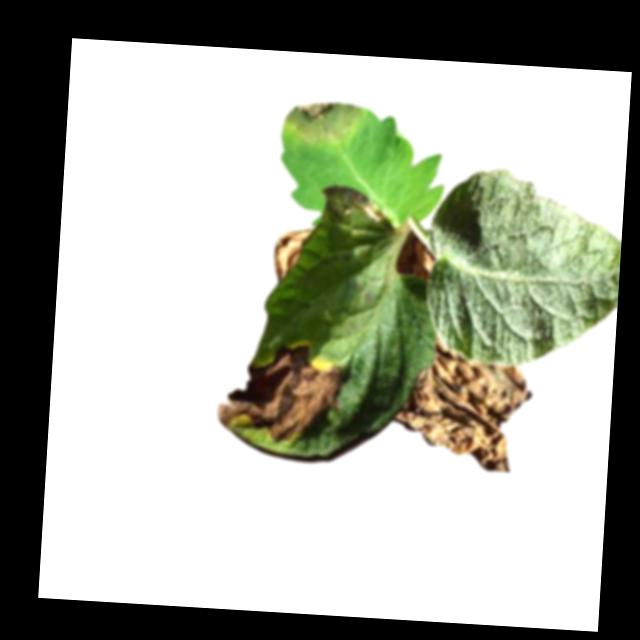Late_blight: (389, 333, 535, 474), (213, 335, 346, 448), (284, 94, 365, 149), (320, 184, 388, 229), (271, 226, 311, 284), (395, 233, 438, 283)
healthy: (422, 164, 625, 372)
